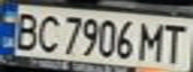0: (96, 16, 121, 60)
6: (115, 17, 139, 61)
7: (57, 12, 84, 55)
9: (78, 15, 100, 57)
B: (9, 9, 42, 52)
C: (33, 11, 63, 54)
M: (136, 19, 169, 62)
T: (157, 20, 190, 64)
